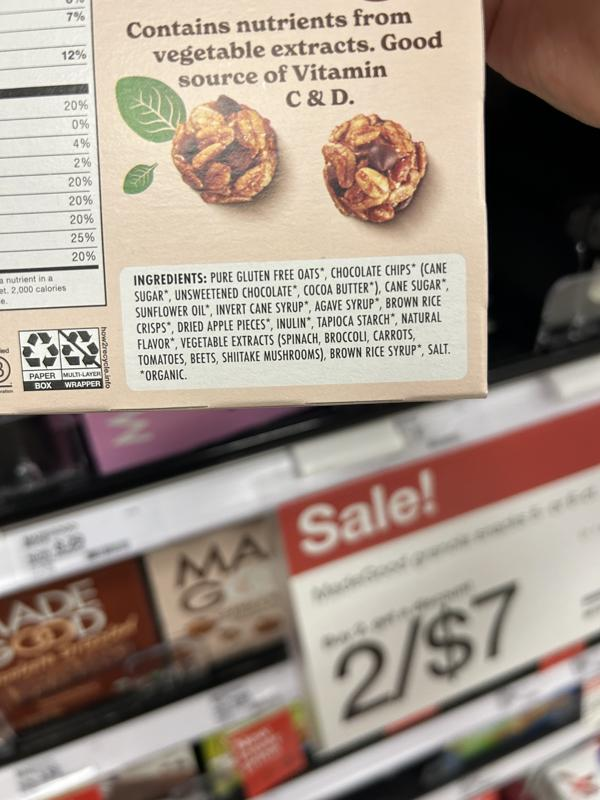ingredients: (131, 260, 456, 368)
